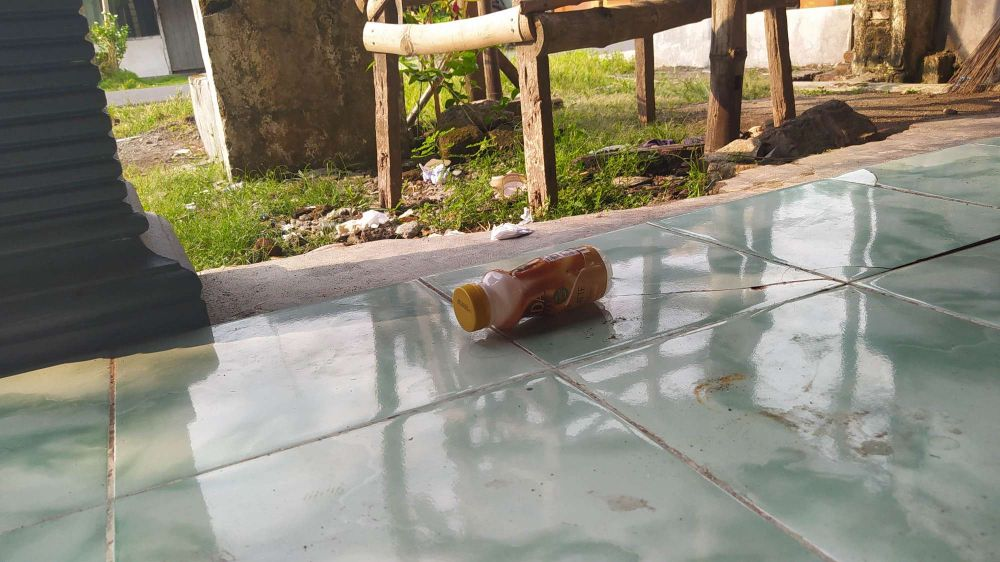botol: (431, 230, 625, 328)
